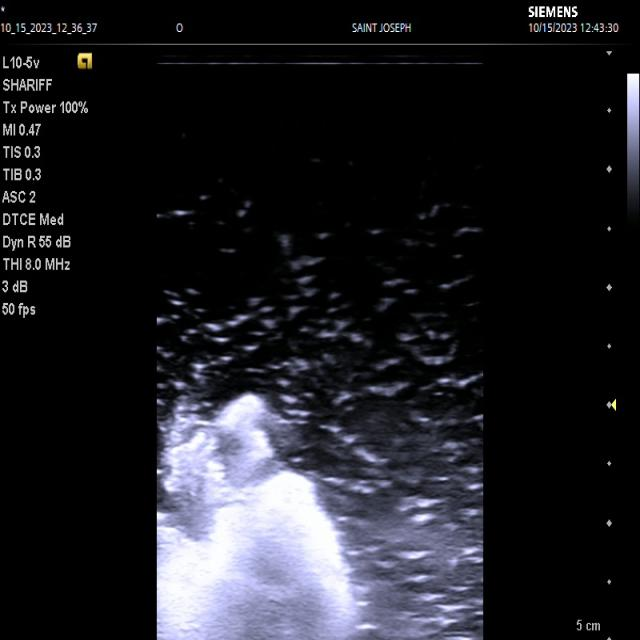tissue: (158, 394, 356, 640)
